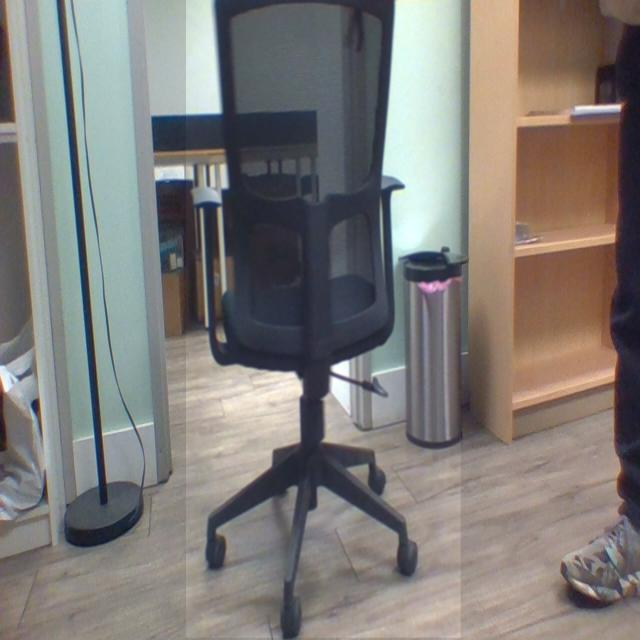black-chair: (186, 0, 462, 639)
